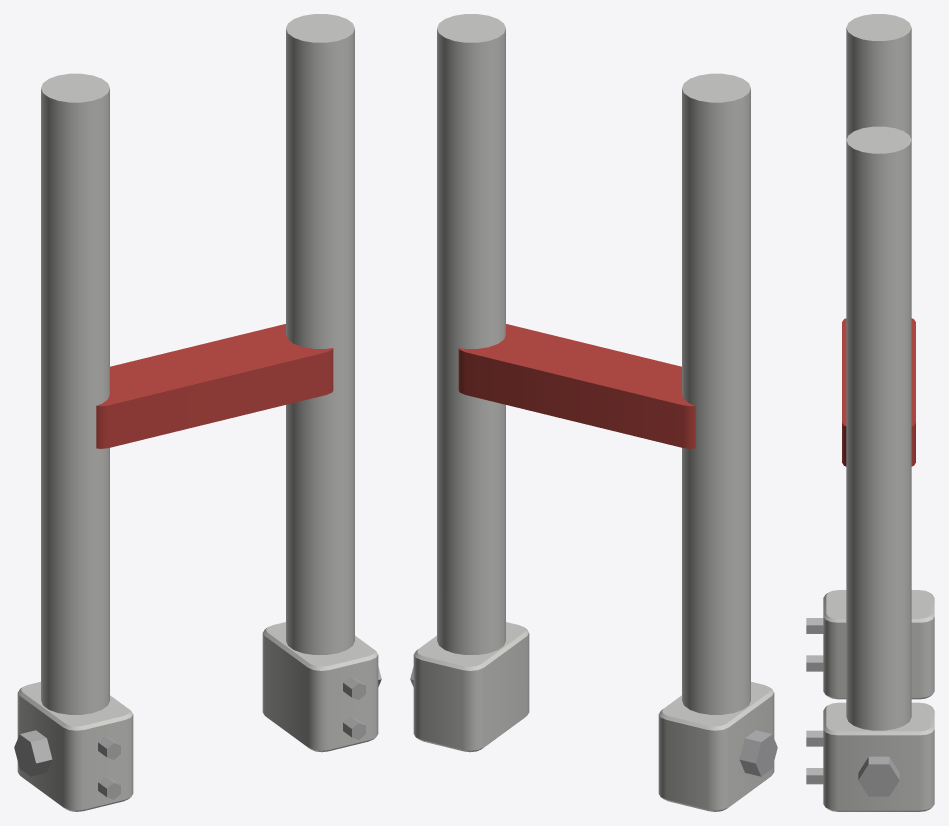
Rendered from adv_black_usd_lower.glb.
3 views of the same model, side by side, from view 1: azimuth 30°, elevation 25°; view 2: azimuth 150°, elevation 25°; view 3: azimuth 270°, elevation 25° (orthographic). The views are drawn at different scales.
Parts seen in each view (by area): view 1: lod0; view 2: lod0; view 3: lod0.
Part boxes in pixels (box(x1,y1,x2,y2)): lod0: box(14, 14, 381, 811); lod0: box(410, 14, 777, 811); lod0: box(806, 14, 934, 811).
Size of what is drawn, in the model's own units: 0.254 by 0.49 by 0.0865.
